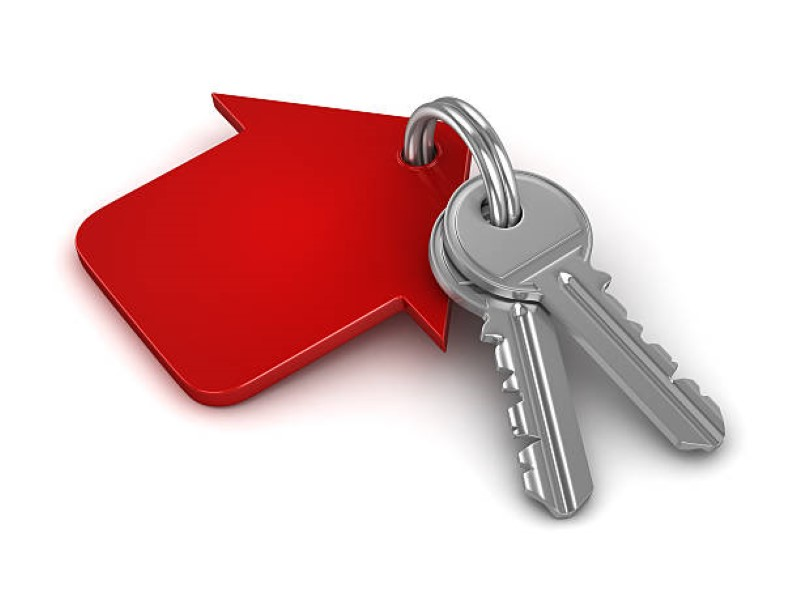key: (426, 166, 729, 523)
